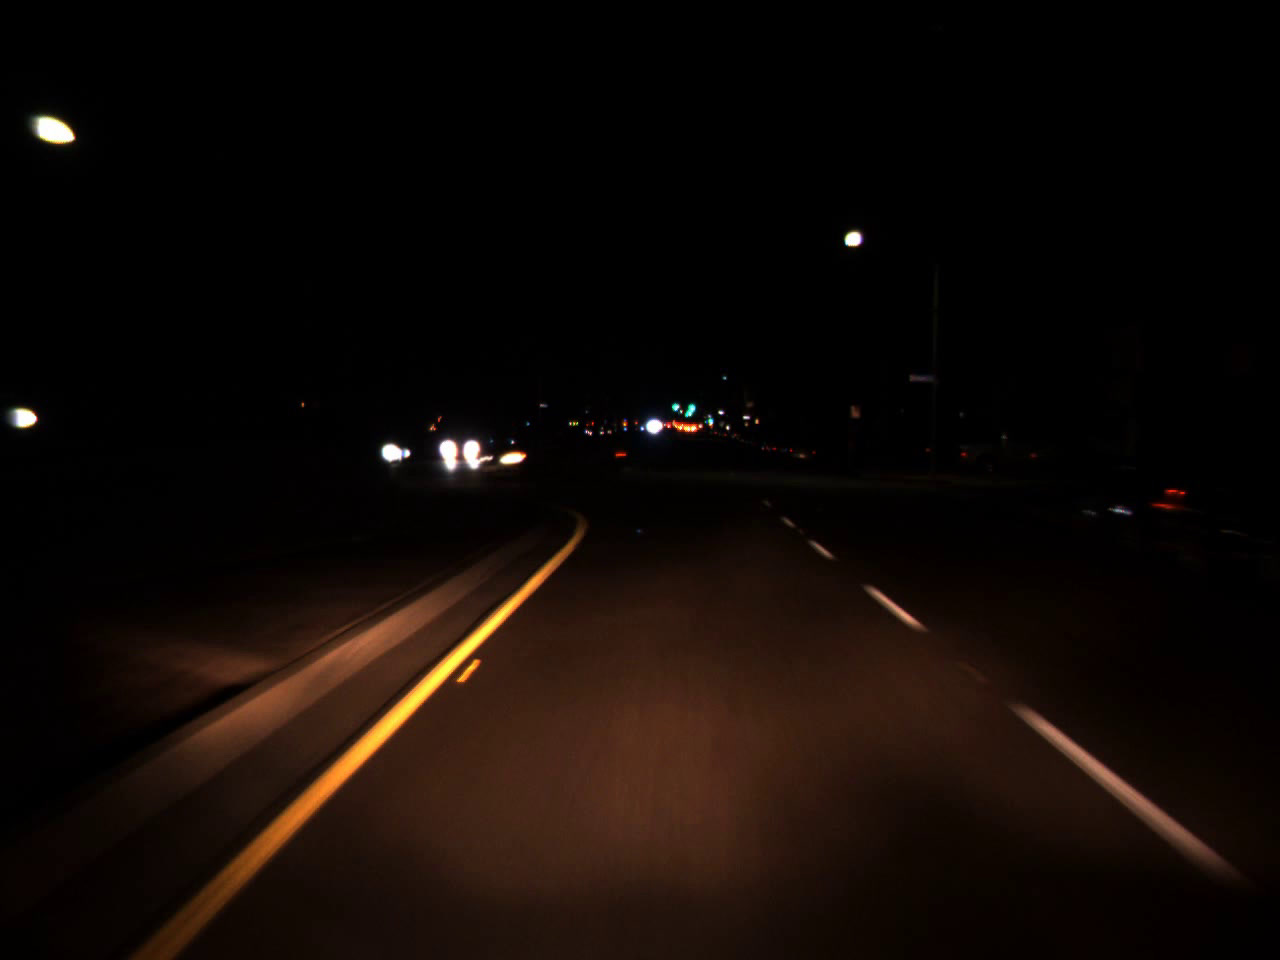go: (684, 391, 698, 418), (669, 393, 679, 414)
